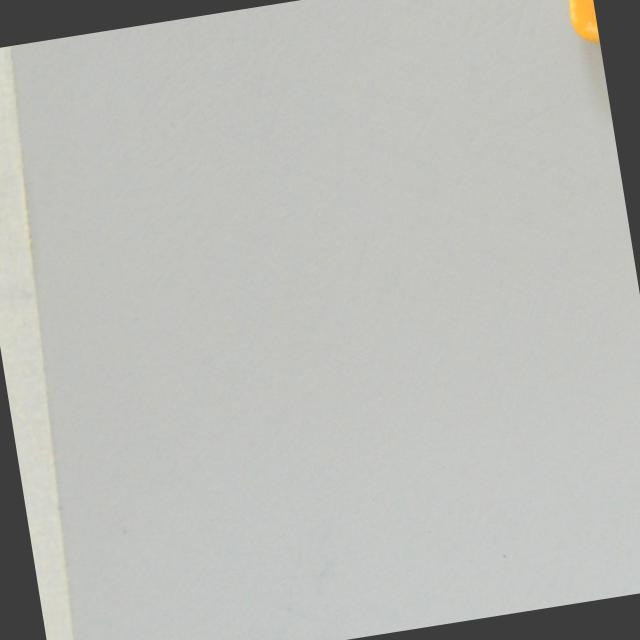dañado: (554, 0, 602, 63)
